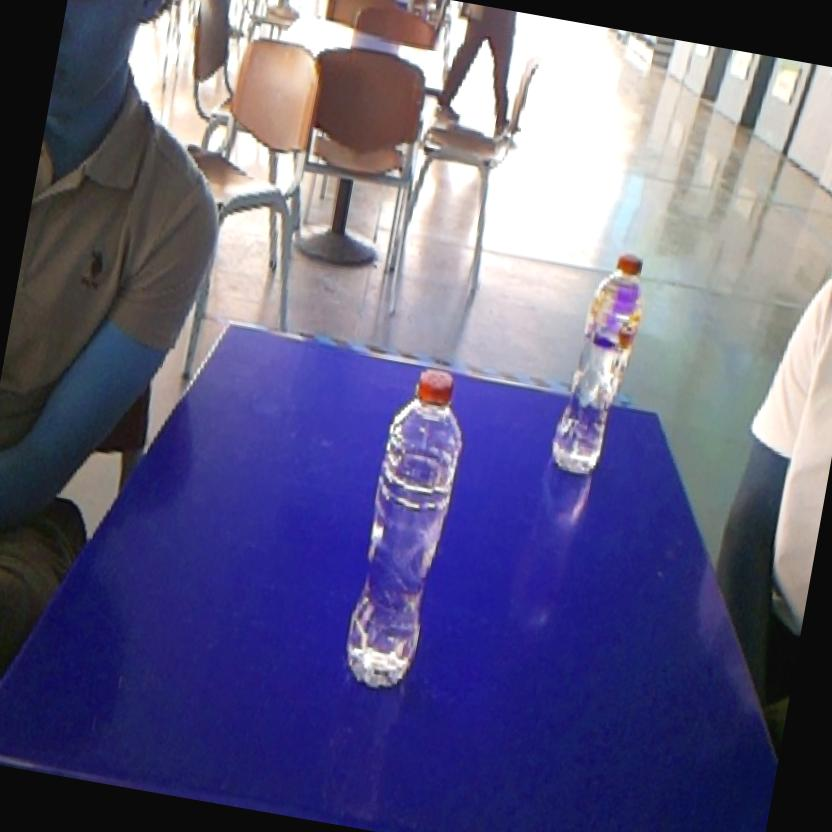good: (541, 237, 664, 486)
no_label: (330, 342, 484, 703)
